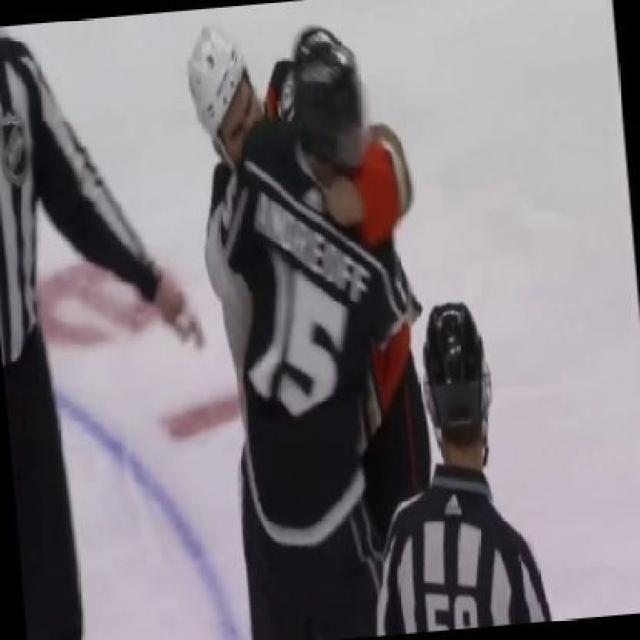fight: (184, 21, 432, 640)
